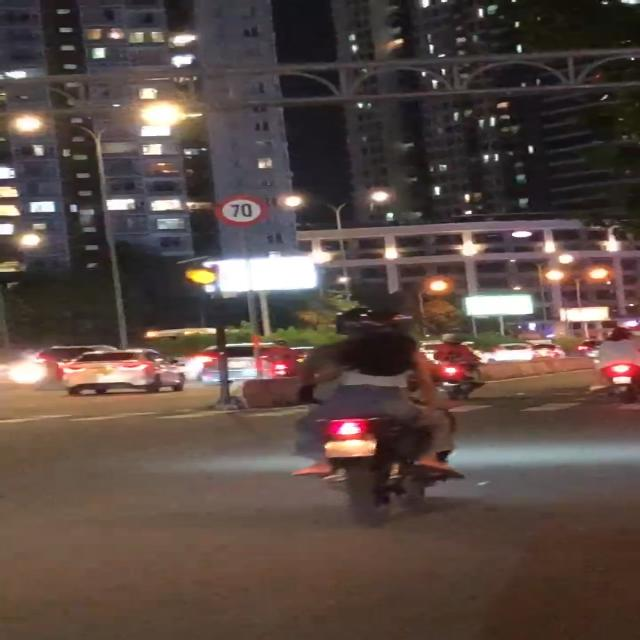Bien bao toc do toi da cho phep: (210, 196, 270, 227)
